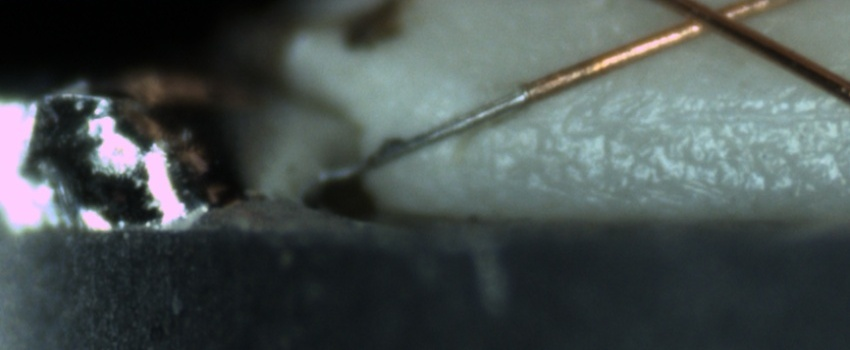CL: (656, 1, 765, 42)
DL: (480, 81, 850, 145)
TS: (319, 89, 529, 185)
TTCW: (304, 71, 568, 184)
